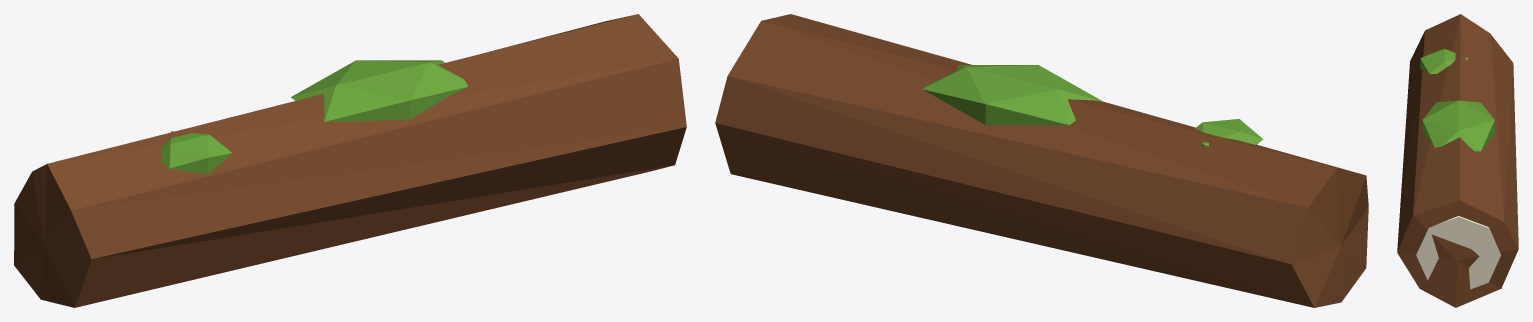
File: tronco_caido.glb
3 renders of one model, left to right at view 1: azimuth 30°, elevation 25°; view 2: azimuth 150°, elevation 25°; view 3: azimuth 270°, elevation 25°, orthographic. The views are drawn at different scales.
Parts seen in each view (by area): view 1: tronco, musgo, musgo_2; view 2: tronco, musgo, musgo_2; view 3: tronco, corte_1, musgo, musgo_2.
Part boxes in pixels (x1,y1,x2,y2): tronco: [14, 14, 686, 307]; musgo: [291, 60, 468, 121]; musgo_2: [161, 131, 232, 173]; tronco: [715, 14, 1368, 307]; musgo: [922, 65, 1101, 125]; musgo_2: [1195, 119, 1263, 146]; tronco: [1397, 14, 1518, 307]; corte_1: [1416, 216, 1500, 289]; musgo: [1422, 100, 1494, 151]; musgo_2: [1420, 49, 1468, 74].
Size of the model in its own units: 3.27 by 0.8299 by 0.8601.
